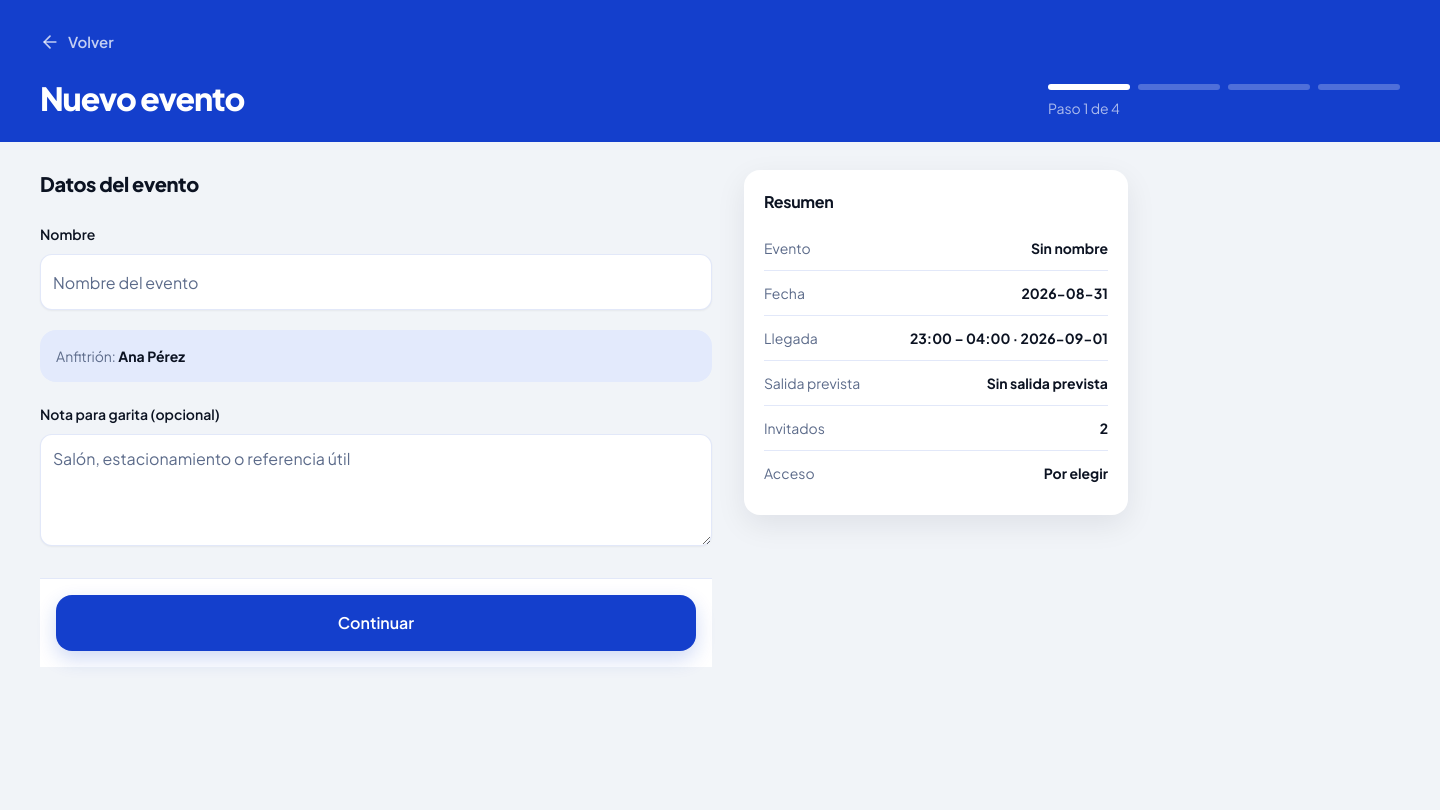
Test case: EventForm › recibe de forma segura los invitados transferidos desde una invitación grupal
This screenshot has width=1440, height=810.
In the field labelled "Nombre": (376, 282) [40,254,712,310], type "Reunión familiar"
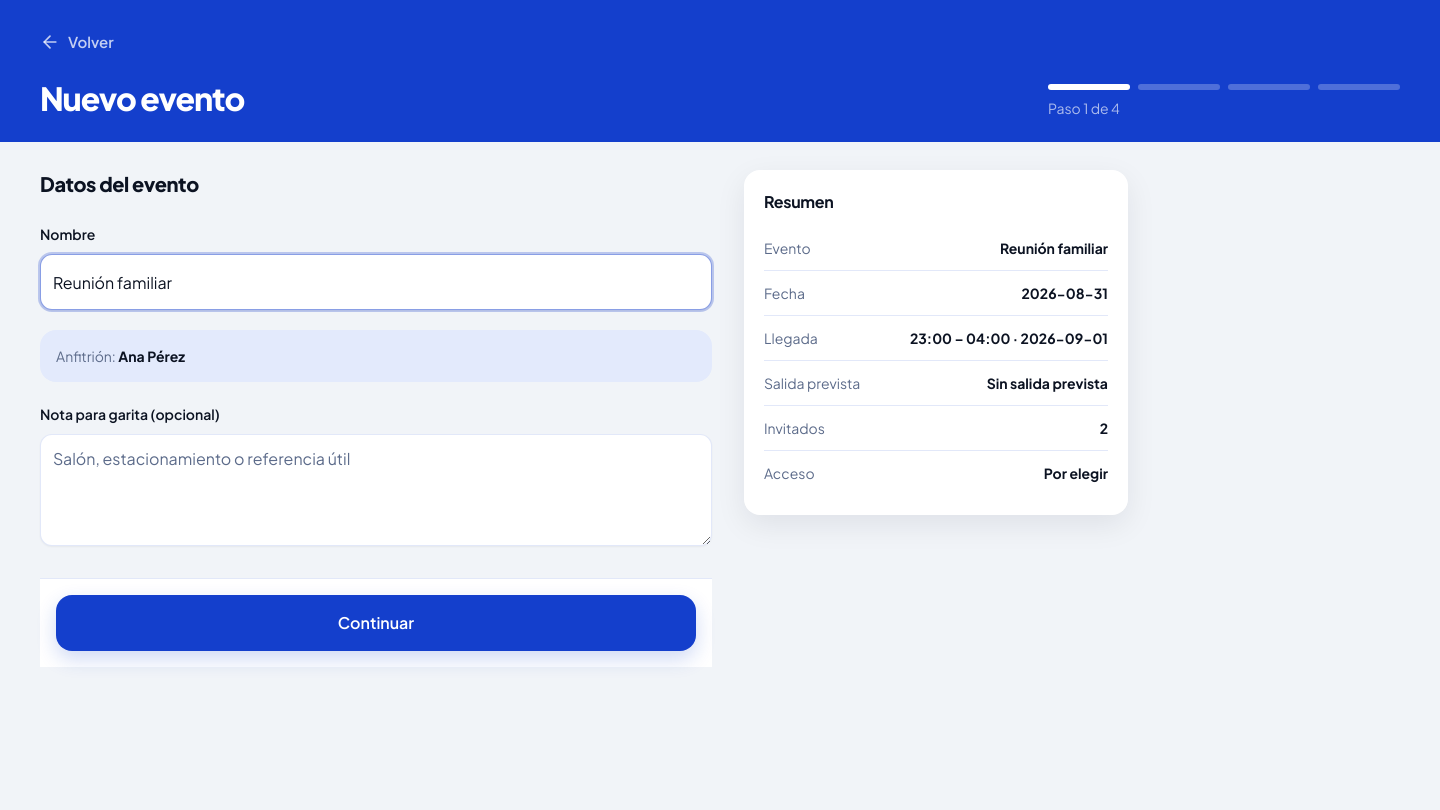
Click the button "Continuar": (376, 623) [56,595,696,651]
(page scrolled)
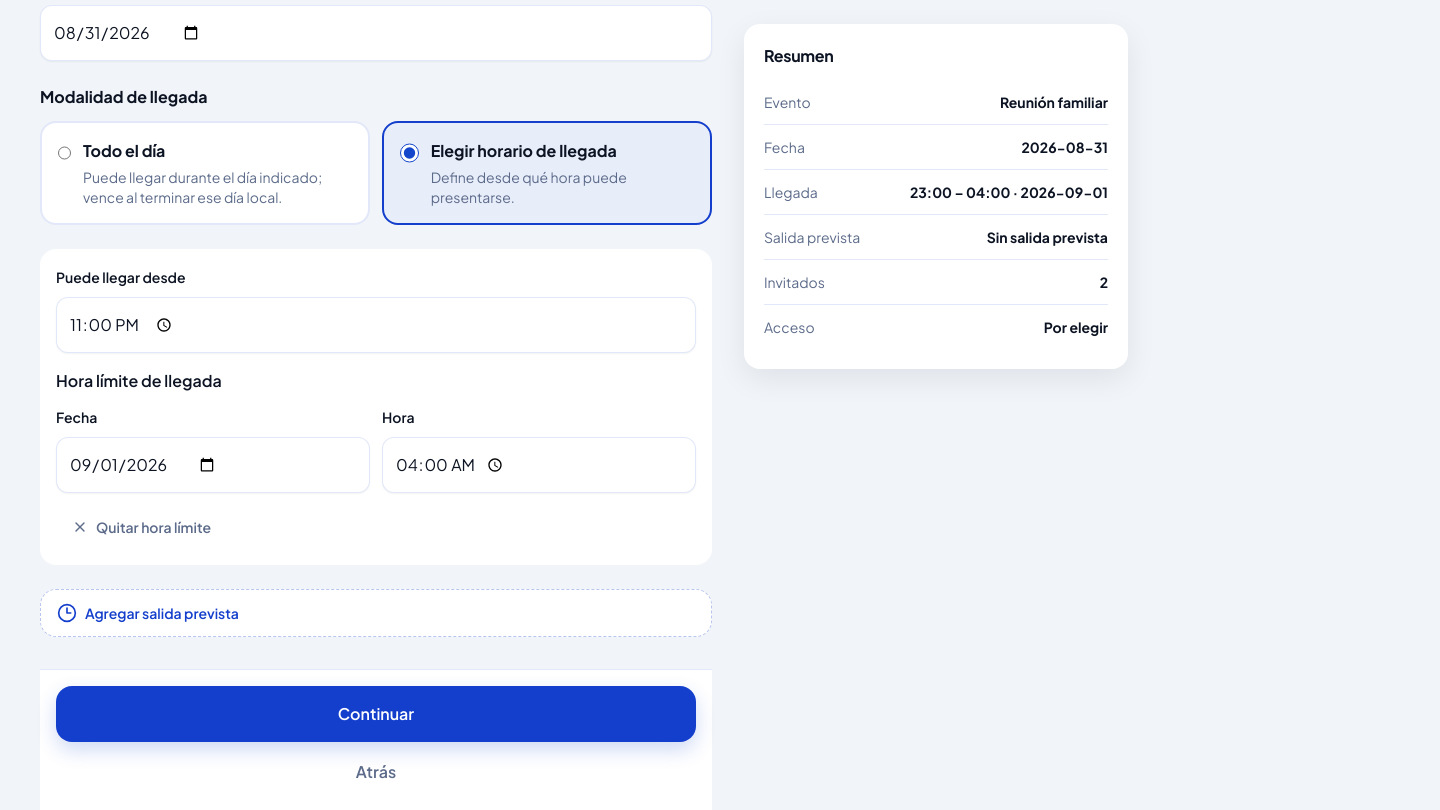
Click the button "Continuar": (376, 714) [56,686,696,742]
(page scrolled)
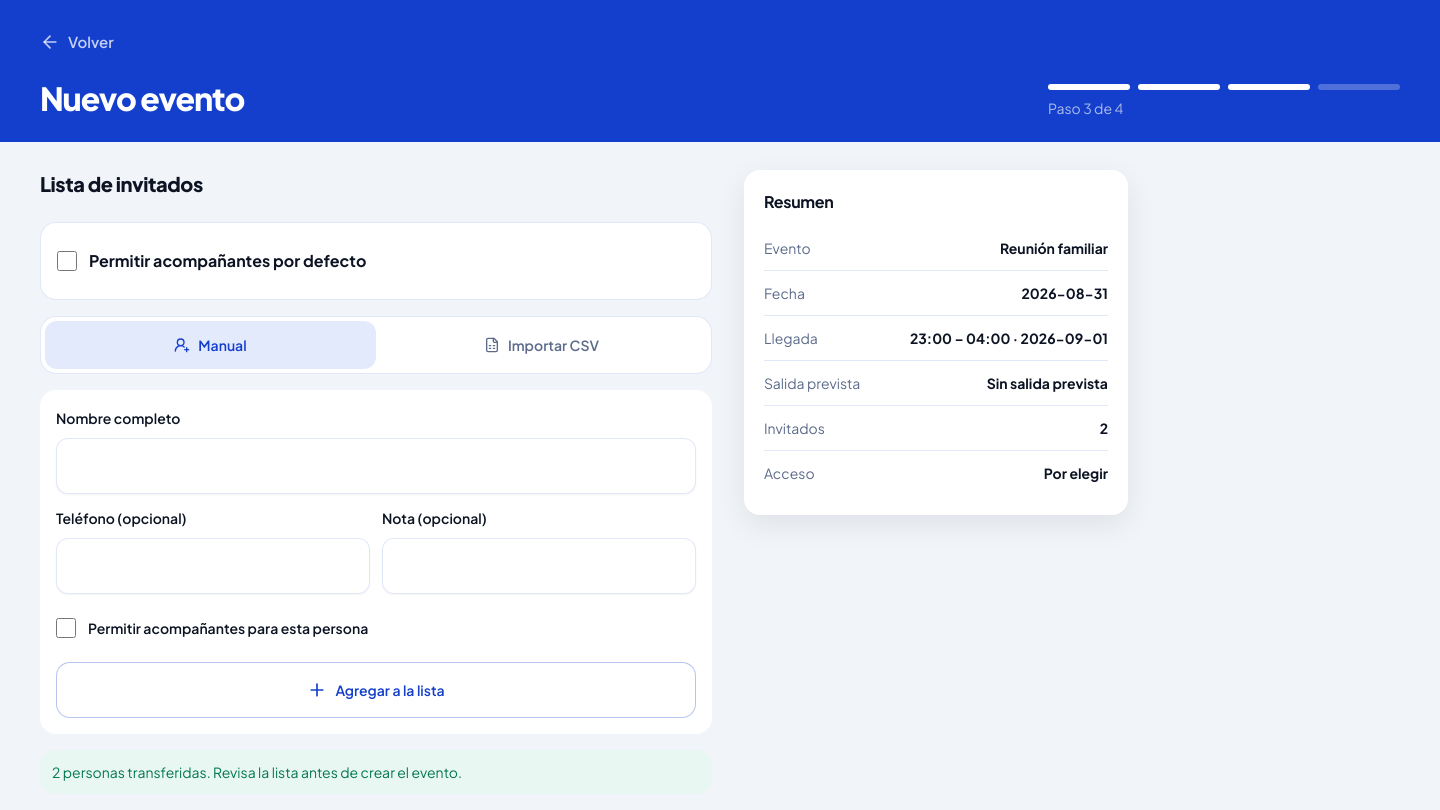
expect the text "2 personas transferidas" is shown: met, box [52,763,462,781]
